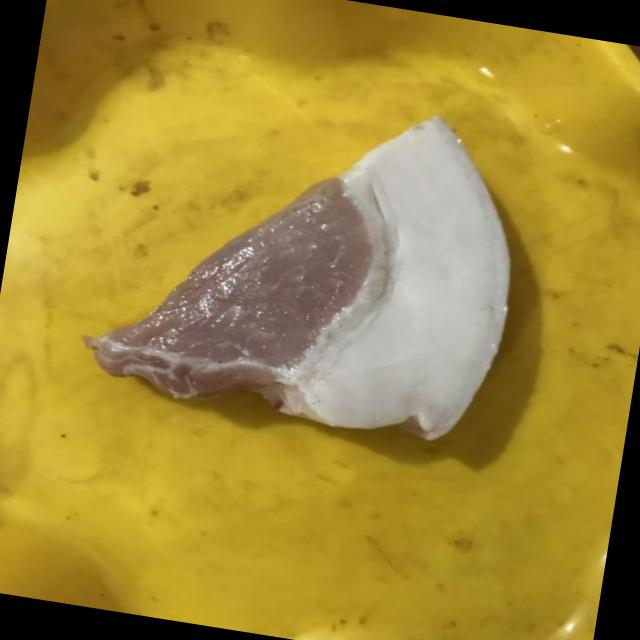chicken: (78, 67, 537, 458)
